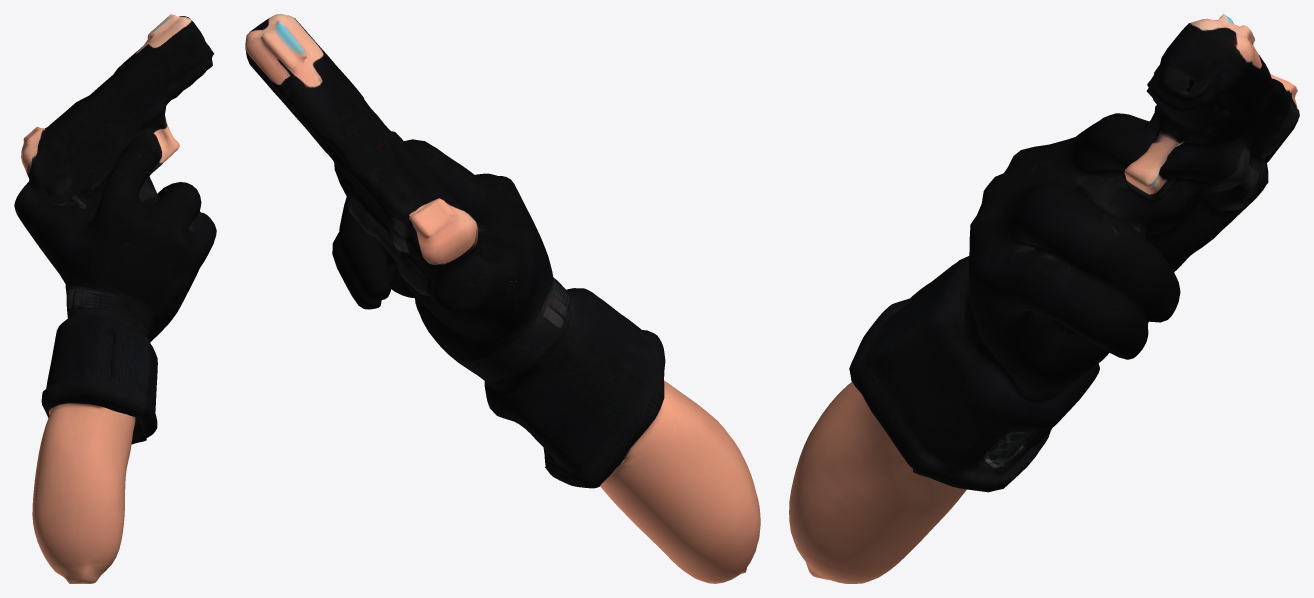
3 renders of one model, left to right at view 1: azimuth 30°, elevation 25°; view 2: azimuth 150°, elevation 25°; view 3: azimuth 270°, elevation 25°, orthographic. The views are drawn at different scales.
Size of the model in its own units: 1.22 by 1.91 by 1.2.
Materials: 1 (1 with a texture image).
